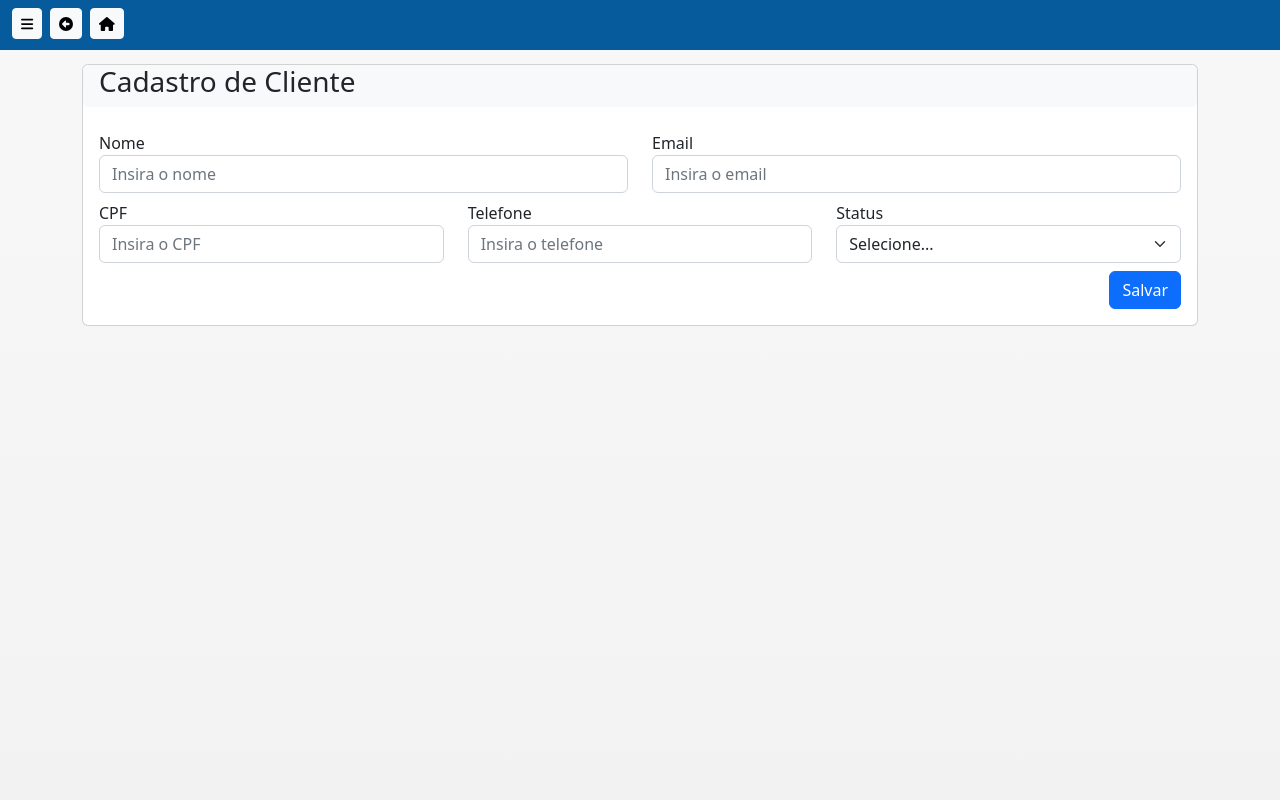
Test case: Cadastro de Cliente › Deve preencher o formulário e enviar
Type "Nome do Cliente" into the field with id "nome". click: x=364, y=174
box: [99,155,628,193]
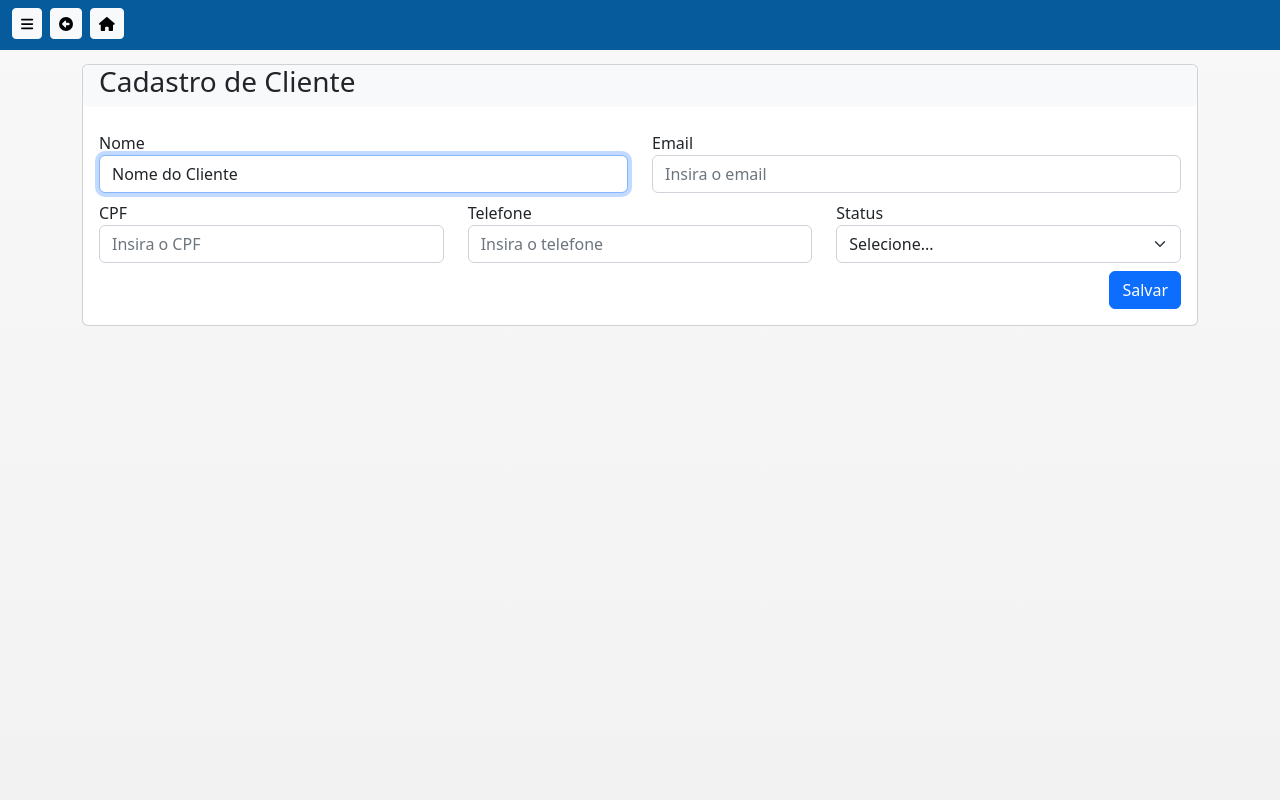
Type "123.456.789-09" into the field with id "cpf". click: x=272, y=244
box: [99,225,444,263]
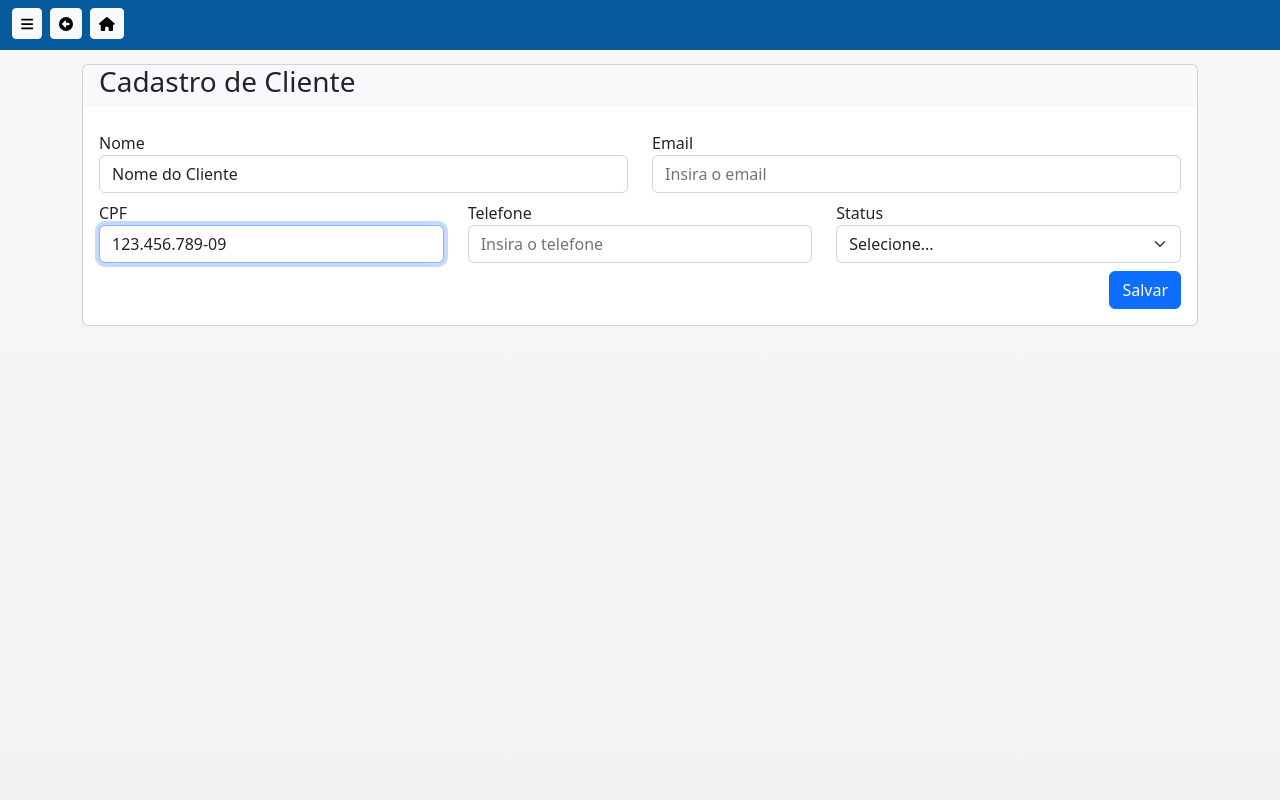
Type "(92) 99257-4730" into the field with id "telefone". click: x=641, y=244
box: [468,225,813,263]
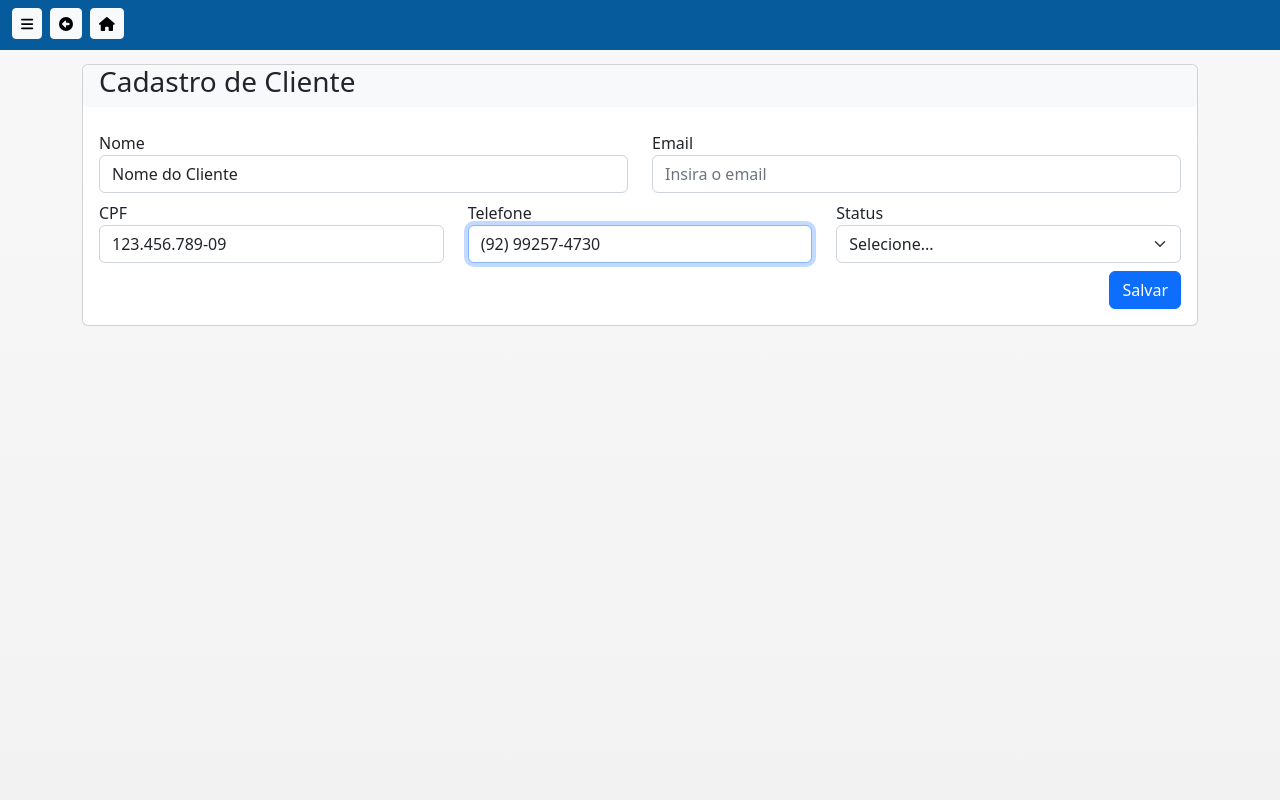
Type "cliente@example.com" into the field with id "email". click: x=917, y=174
box: [652,155,1181,193]
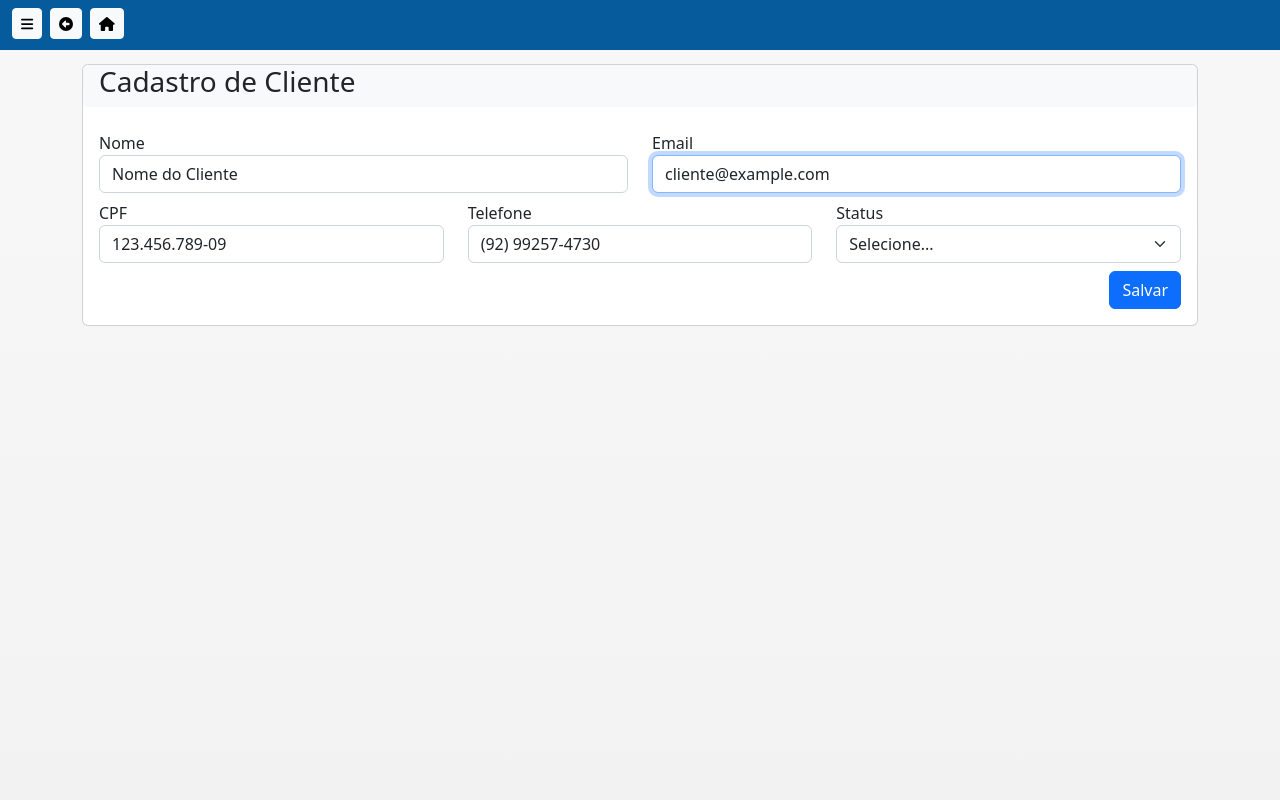
Select "Ativo" in the dropdown with id "status". click: x=1009, y=244
box: [836,225,1181,263]
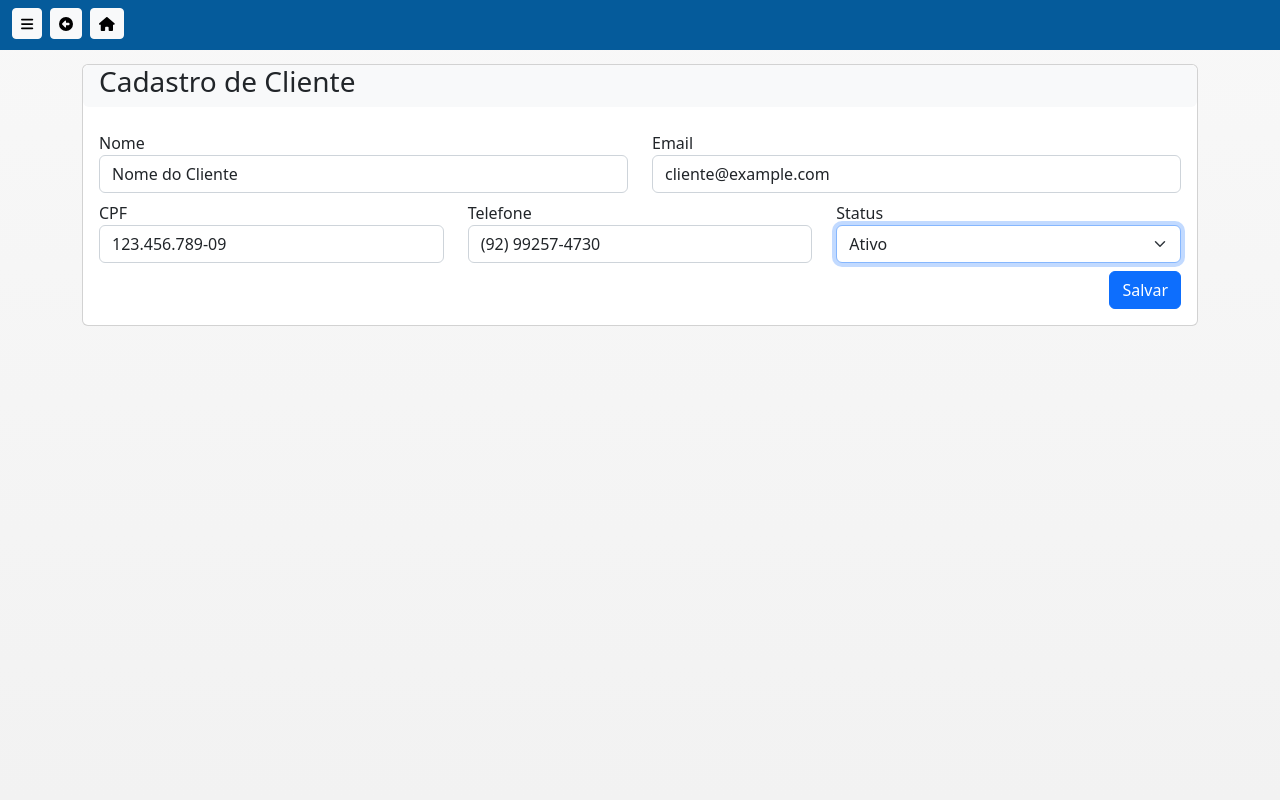
Click the submit button. click: x=1145, y=290
box: [1109,271,1181,309]
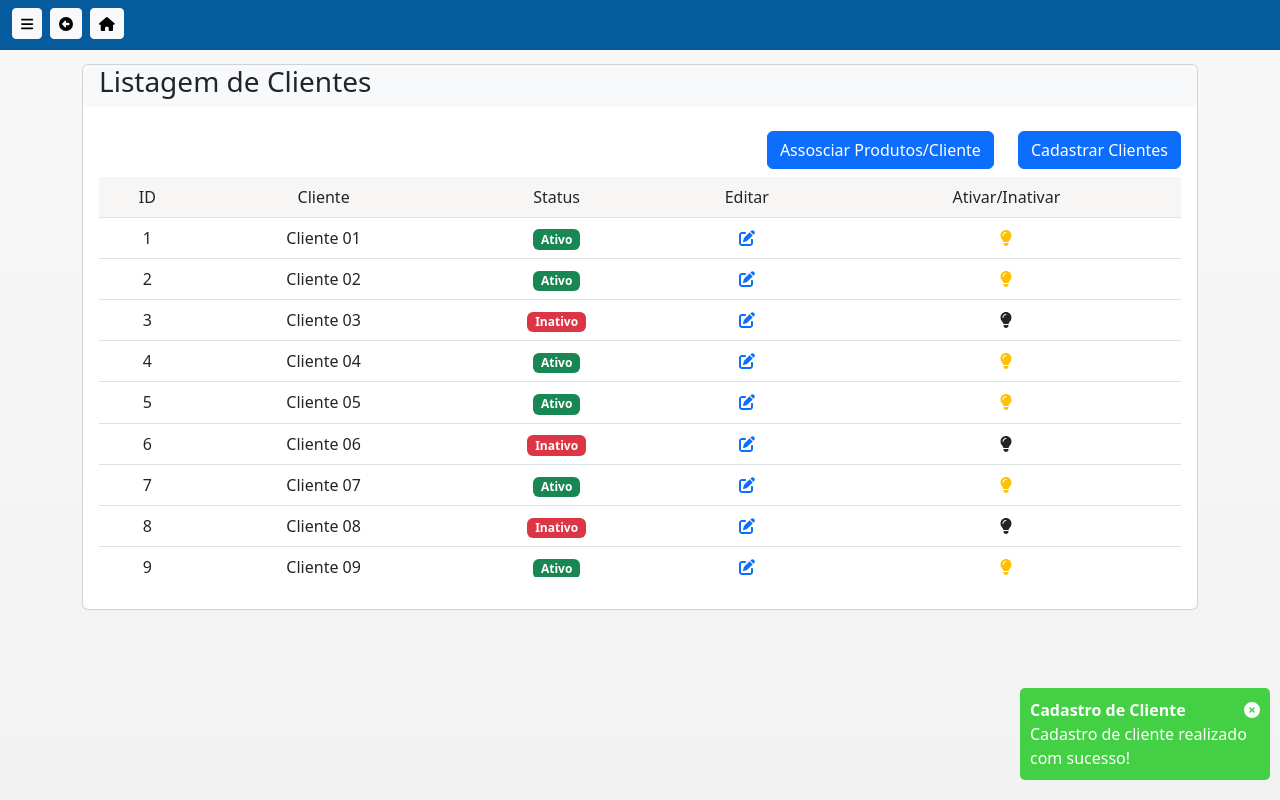
Result: the element with class "notification" is shown at [1020,688,1270,780]
